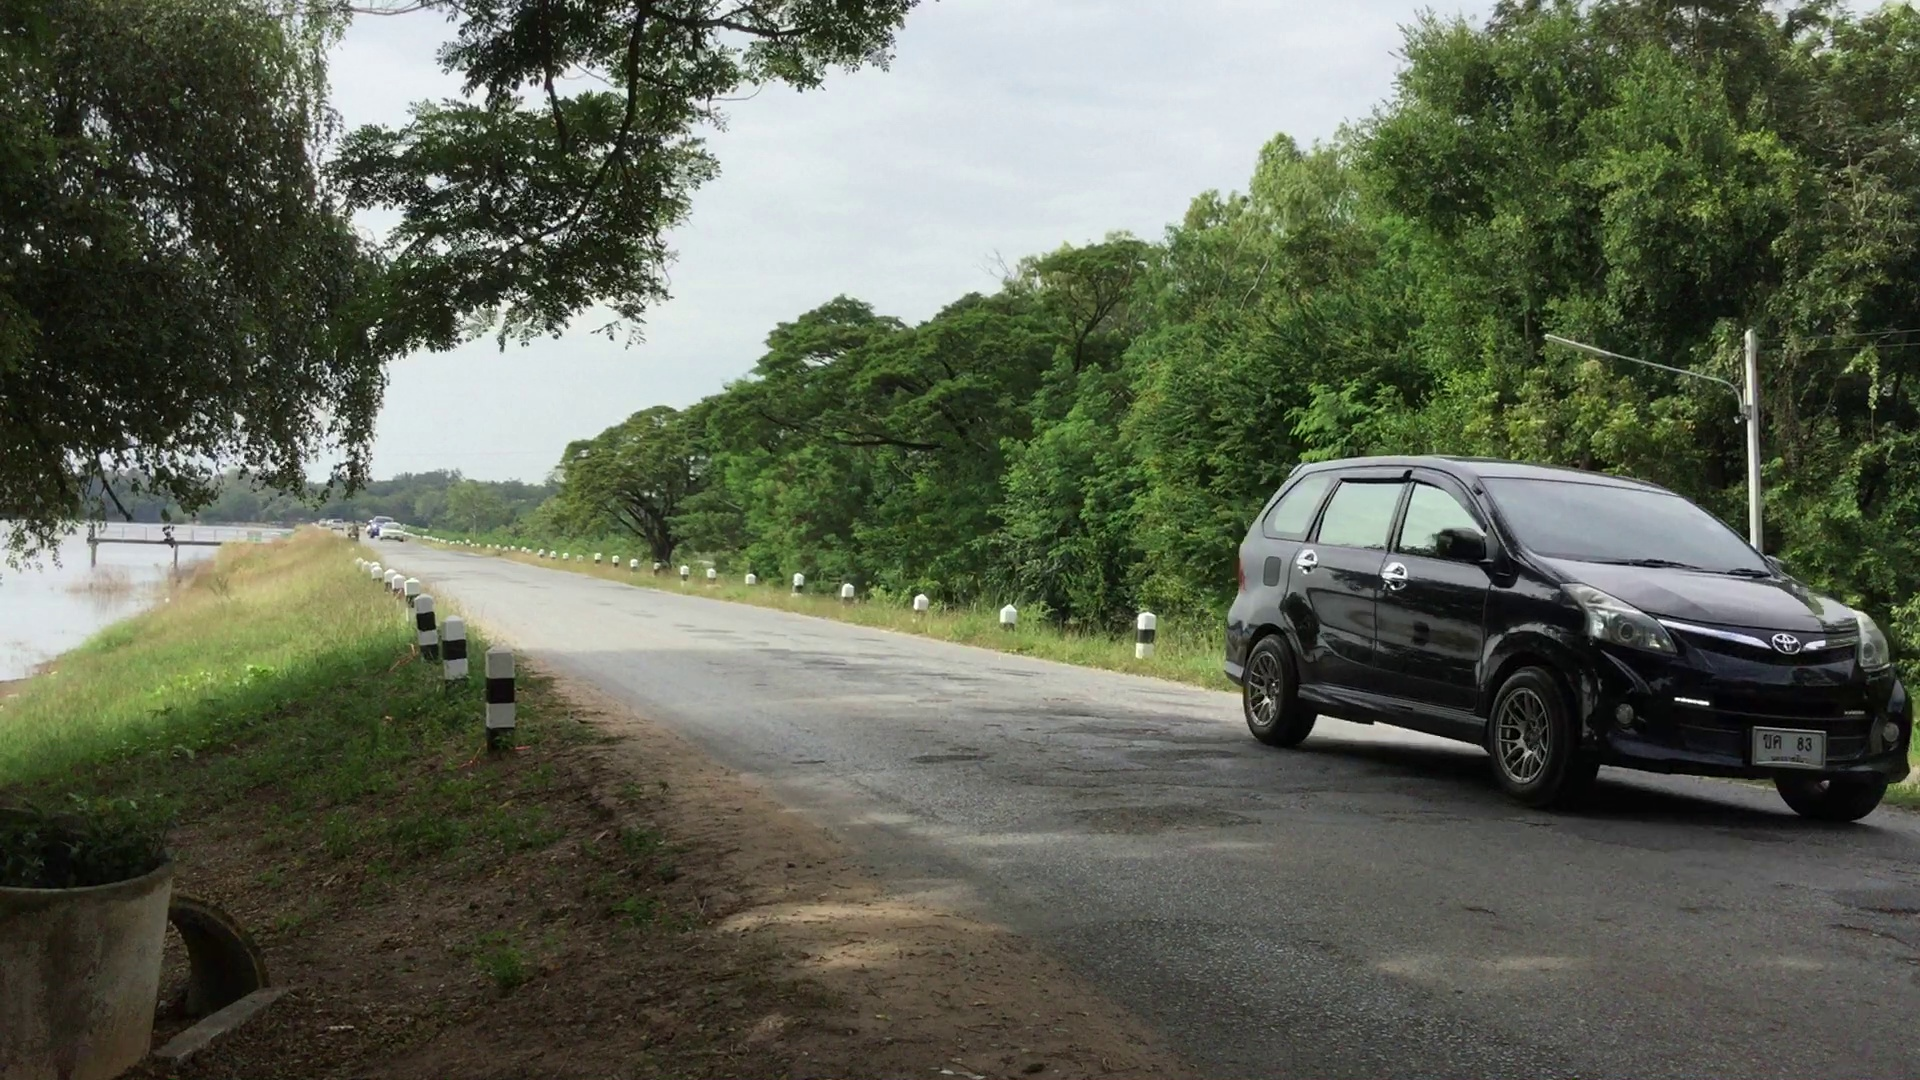car: (1229, 455, 1905, 807), (378, 522, 404, 542)
post: (481, 646, 521, 742), (438, 613, 471, 678), (413, 592, 440, 655), (1133, 609, 1154, 659)
